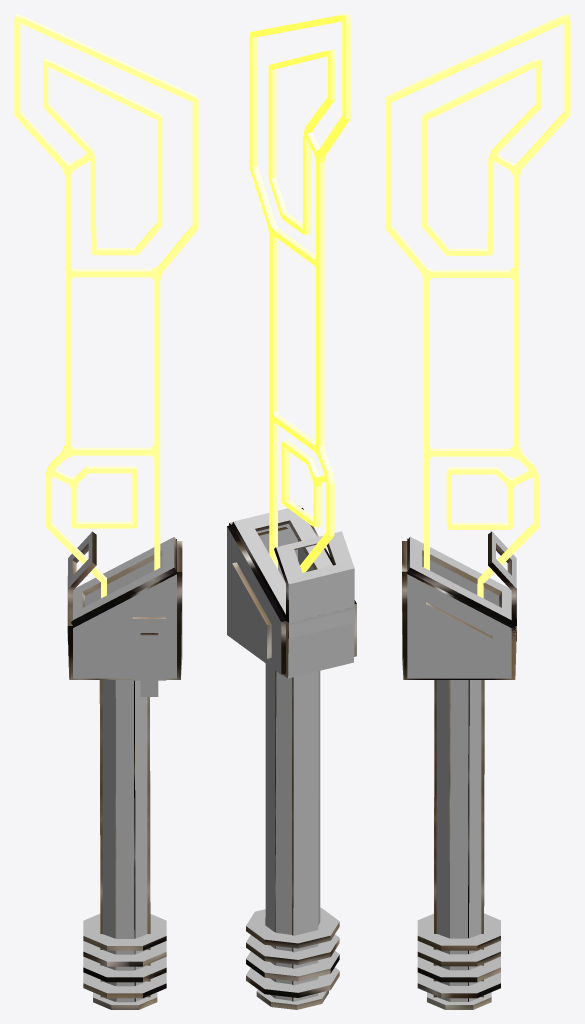
Rendered from Nichrome Saber 2.fbx.
3 views of the same model, side by side, from view 1: azimuth 90°, elevation 25°; view 2: azimuth 210°, elevation 25°; view 3: azimuth 270°, elevation 25° (orthographic). The views are drawn at different scales.
Parts seen in each view (by area): view 1: Nichrome_Saber_2; view 2: Nichrome_Saber_2; view 3: Nichrome_Saber_2.
Boxes of the visible parts, x1,y1,x2,y2 form: Nichrome_Saber_2: (14,14,198,1009); Nichrome_Saber_2: (227,14,356,1009); Nichrome_Saber_2: (385,14,570,1009).
Bounding box in the file's own units: 56.88 × 622 × 106.
